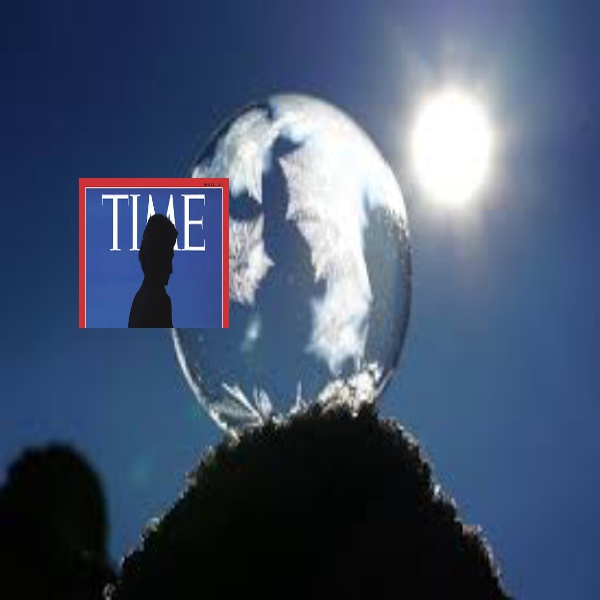time_cover: (77, 178, 228, 329)
